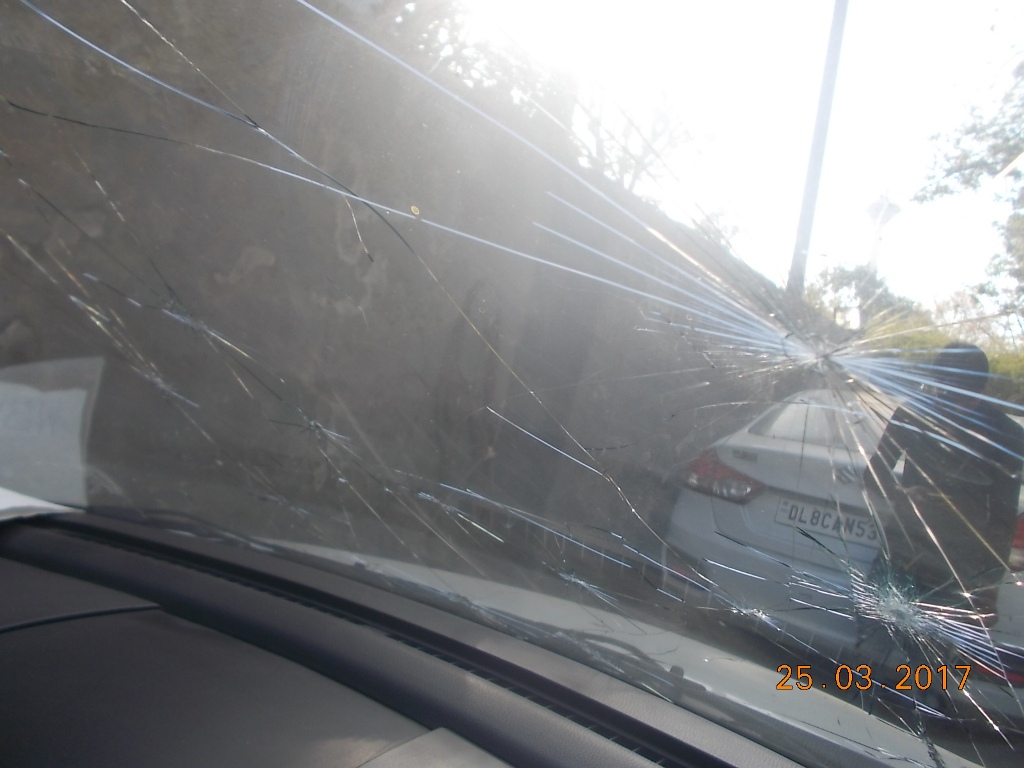Shatter: (816, 284, 1023, 549), (604, 197, 804, 384), (809, 552, 1023, 689), (46, 240, 190, 392)
